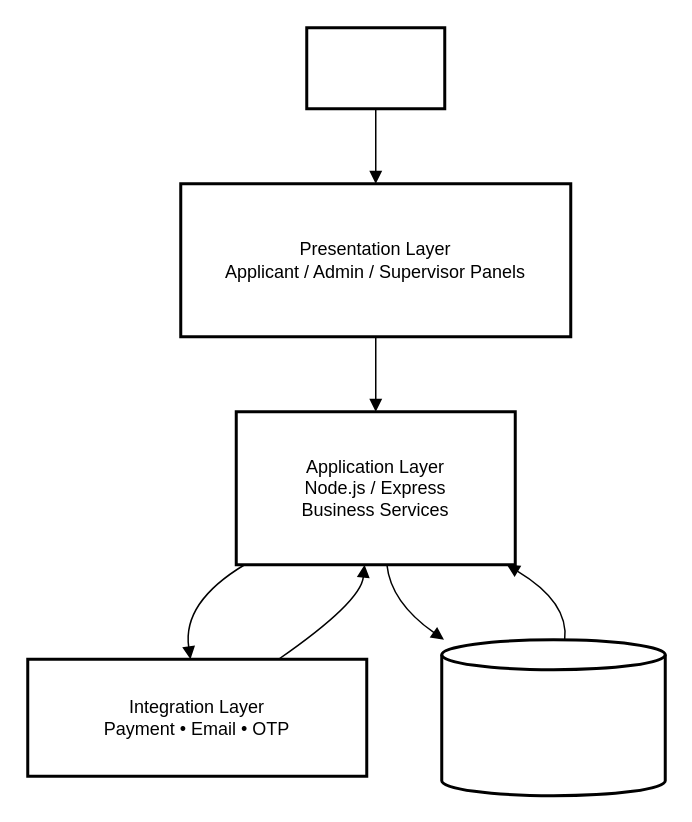
Image size: 692x822. Some labels were removed from this diagram. Here are the shapes that lost their labels. From the top down, the centre of each, then its label:
At (375,68): "User".
At (553,717): "Data Layer MongoDB Database".
